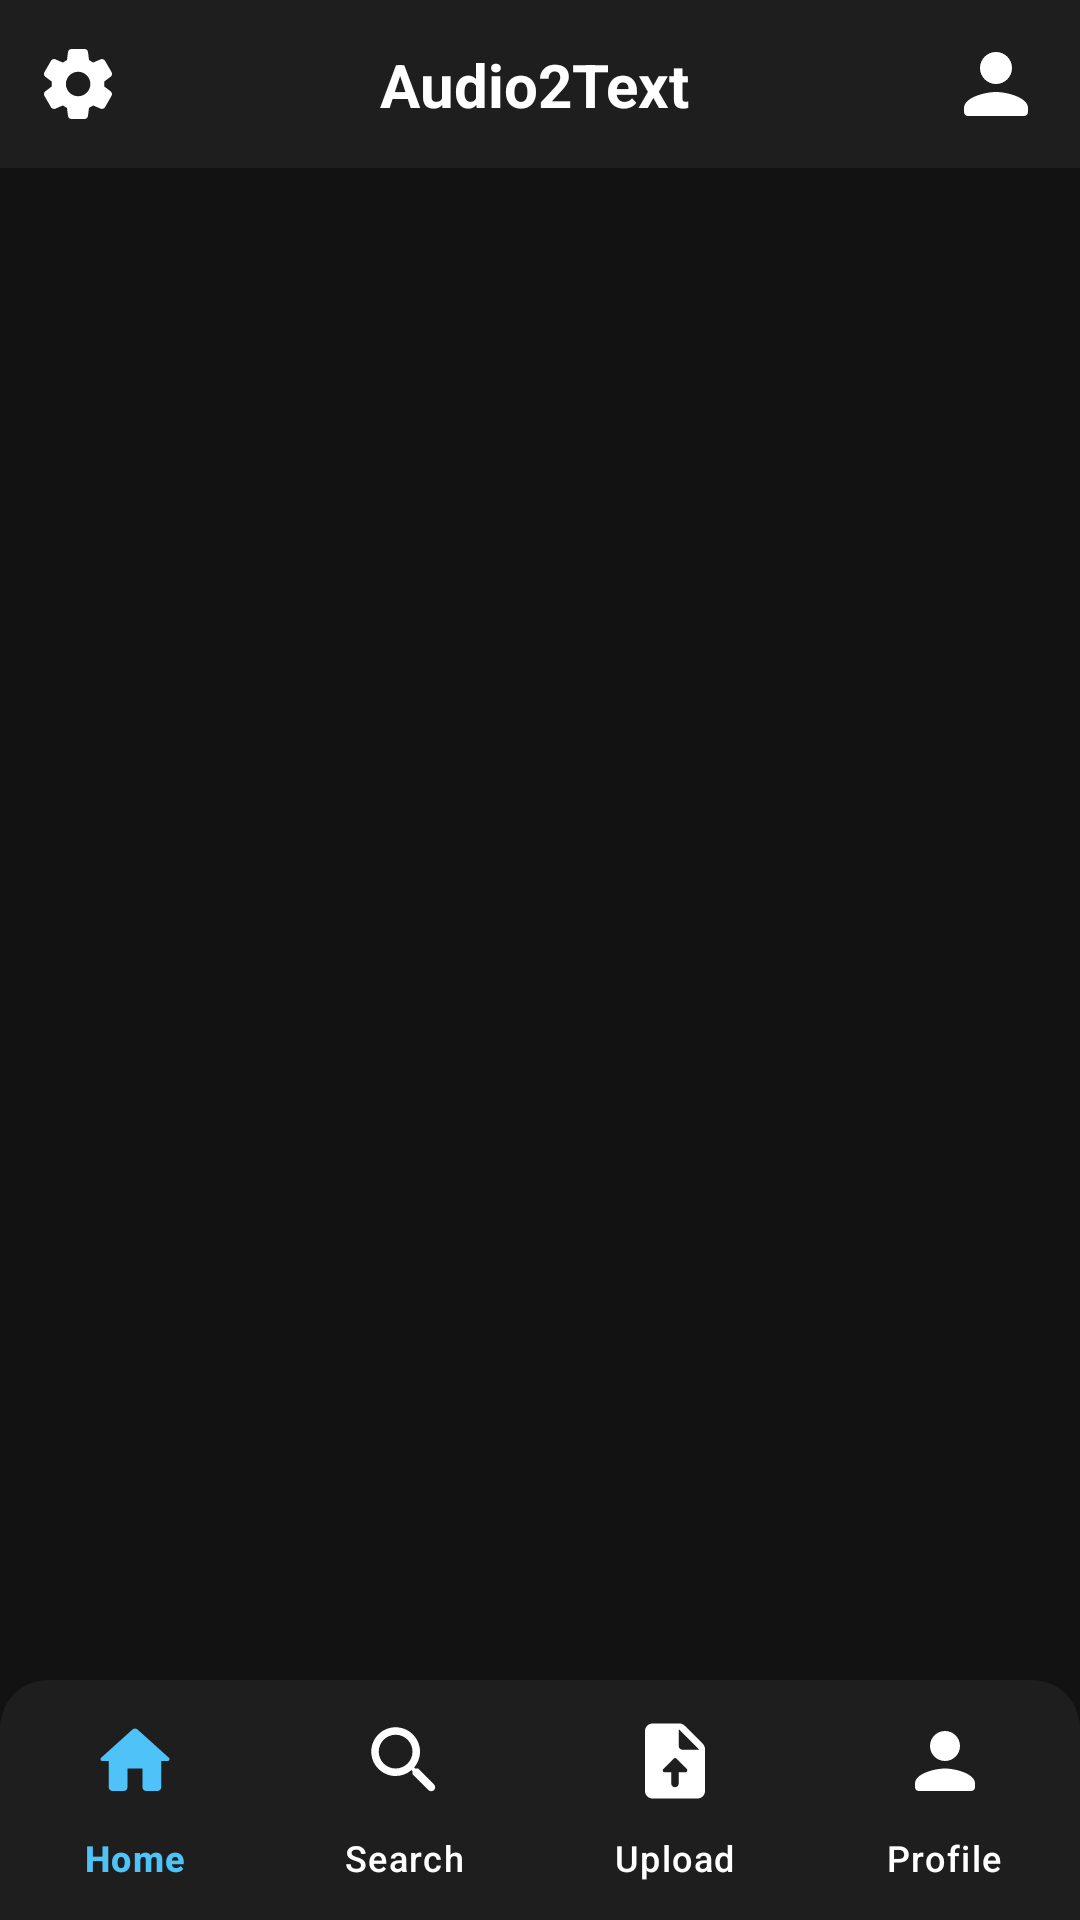

Icon bounding boxes for this 1080x1920 phone screenshot, format (x1,y1,x2,y2):
person: (964,52,1028,116)
settings: (44,49,112,119)
